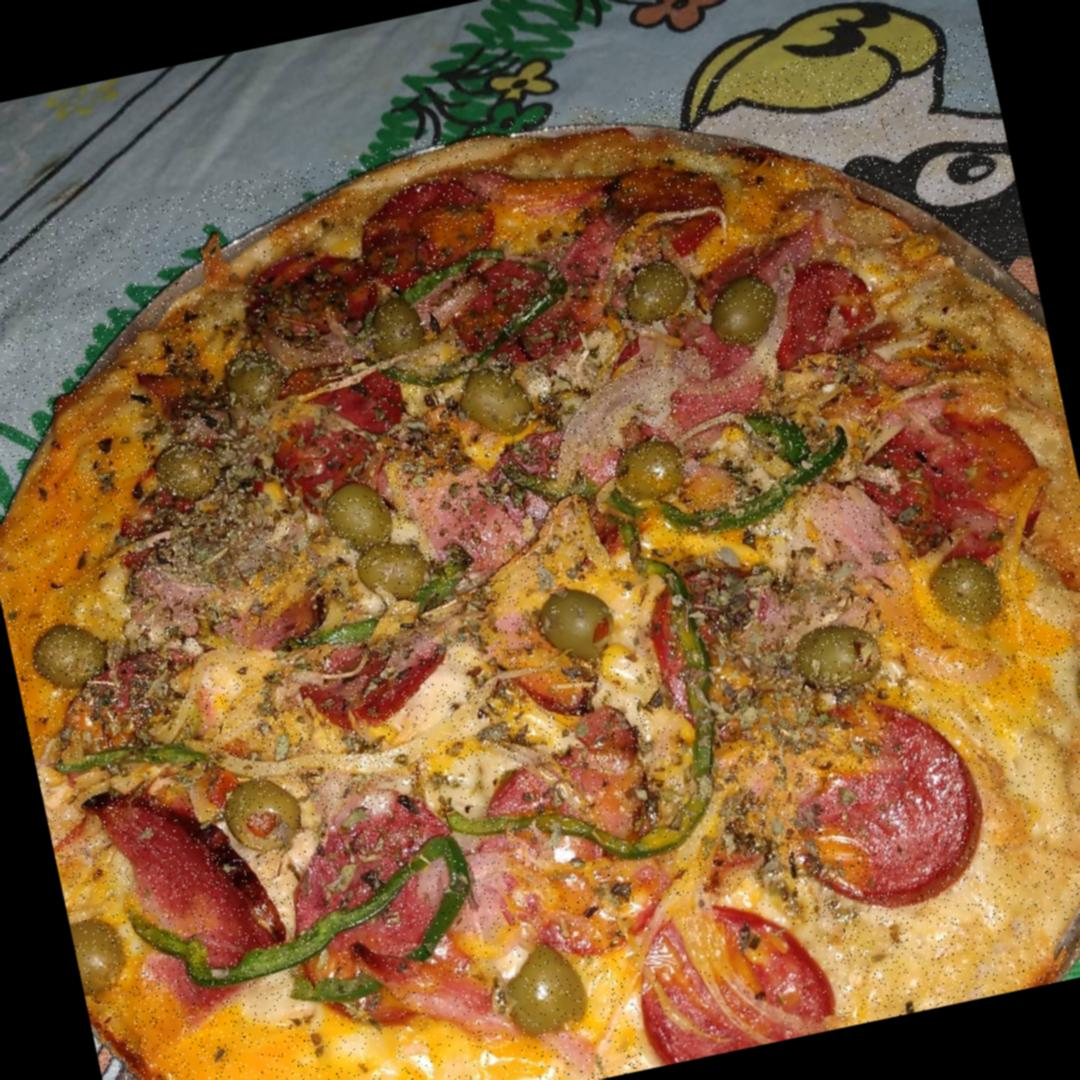Ham: (267, 762, 610, 1080), (387, 432, 569, 598), (631, 305, 786, 466)
Olives: (489, 926, 603, 1049), (696, 256, 798, 365), (215, 764, 316, 874), (788, 610, 900, 709), (522, 574, 634, 670), (446, 348, 544, 453), (21, 606, 123, 704), (922, 540, 1017, 644), (606, 240, 704, 338), (320, 469, 407, 564), (143, 421, 235, 508), (348, 528, 440, 614), (606, 428, 698, 513), (215, 335, 301, 424), (68, 902, 136, 1004), (358, 284, 438, 370), (1063, 646, 1080, 754)
Onion: (190, 660, 572, 815), (526, 330, 787, 493), (780, 454, 926, 631), (119, 525, 291, 660)
Pepperoni: (758, 662, 1010, 936), (77, 757, 304, 1034), (843, 374, 1074, 588), (617, 875, 844, 1069), (632, 544, 782, 746), (438, 241, 608, 393), (262, 613, 457, 745), (340, 158, 513, 304), (226, 228, 390, 361), (585, 144, 746, 278), (231, 392, 395, 519), (749, 240, 902, 376), (264, 340, 424, 464)
Peppers: (117, 820, 496, 1050), (434, 751, 716, 905), (394, 228, 583, 382), (272, 544, 498, 669), (645, 421, 867, 548), (644, 546, 736, 782), (43, 719, 214, 809), (350, 340, 480, 406), (738, 394, 818, 480), (590, 483, 650, 581), (329, 286, 386, 344)
Pizza: (0, 20, 1080, 1080)
